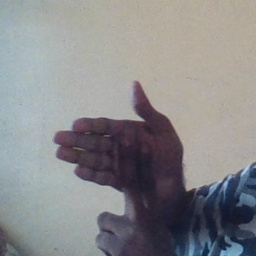N: (35, 78, 196, 256)
